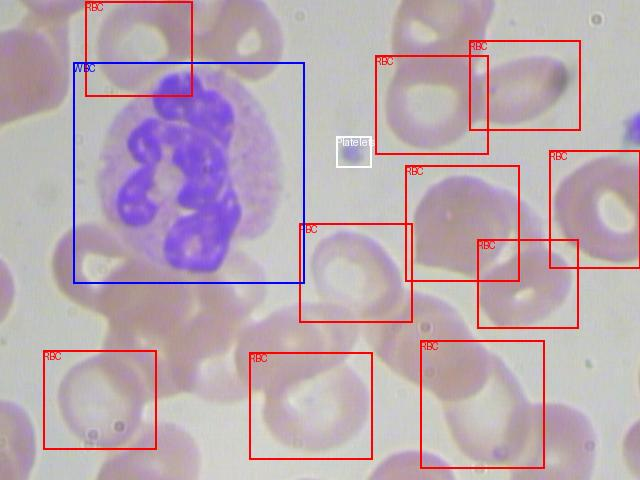Platelets: (336, 136, 371, 167)
RBC: (420, 340, 544, 468), (405, 165, 519, 281), (249, 352, 372, 459), (375, 55, 488, 154), (299, 223, 412, 322), (43, 350, 156, 449), (549, 150, 640, 268), (85, 1, 192, 96), (469, 40, 580, 130), (477, 239, 578, 328)
WBC: (73, 62, 304, 283)
